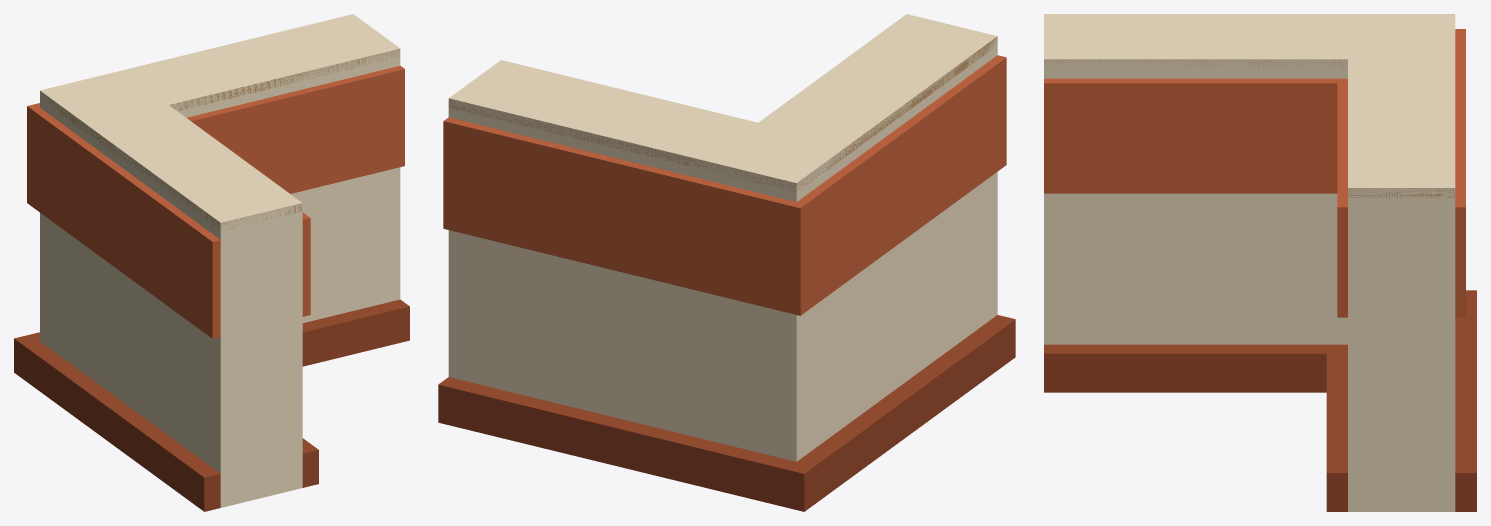
Rendered from partition-elbow.glb.
3 renders of one model, left to right at view 1: azimuth 30°, elevation 25°; view 2: azimuth 150°, elevation 25°; view 3: azimuth 270°, elevation 25°, orthographic. The views are drawn at different scales.
Visible parts, largest first — view 1: partition-elbow; view 2: partition-elbow; view 3: partition-elbow.
Part boxes in pixels (x1=…): partition-elbow: x1=14, y1=14, x2=409, y2=511; partition-elbow: x1=438, y1=14, x2=1015, y2=511; partition-elbow: x1=1044, y1=14, x2=1476, y2=511.
Bounding box in the file's own units: 0.605 × 0.5 × 0.605.
Materials: 1 (1 with a texture image).
